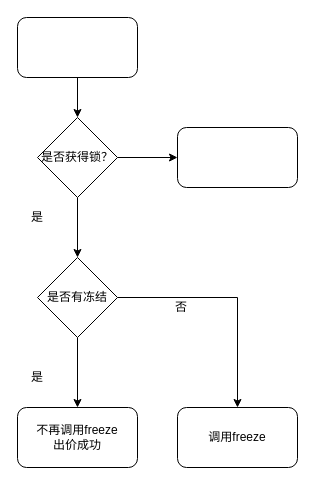
The diagram is 315 pixels wide and 485 high, and some of its shapes have lost their labels. Here are the shapes that lost their labels. From the top down, the centre of each, then its label:
the point at 77,47: check
the point at 237,157: 出价失败
